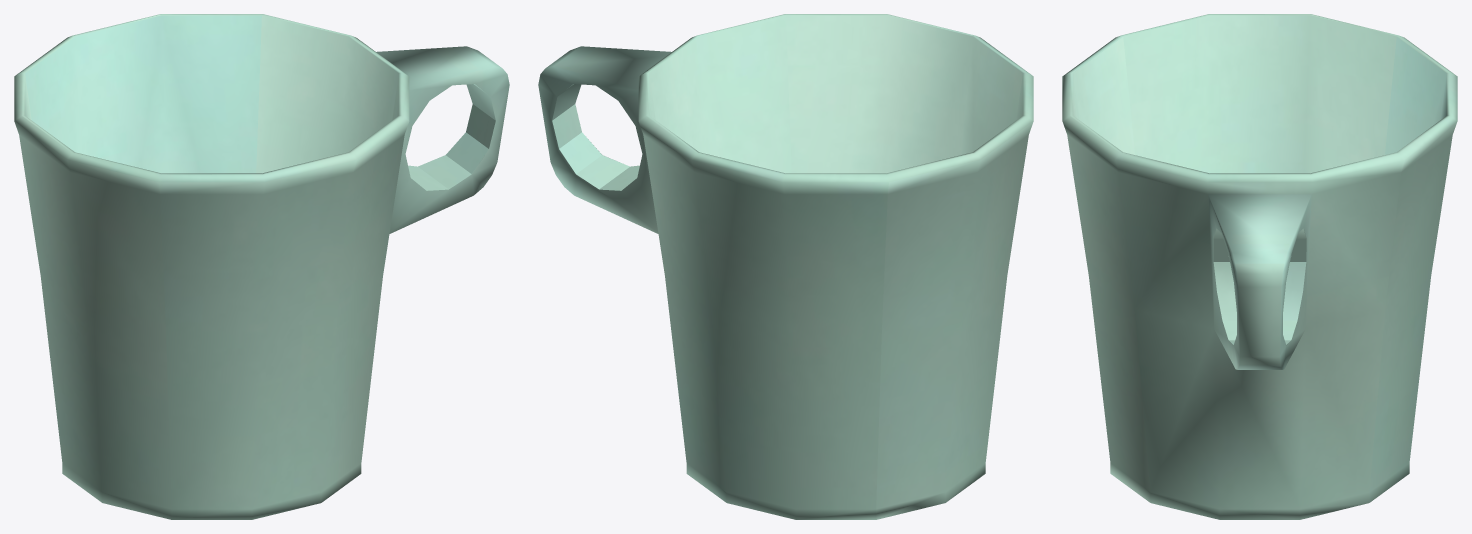
The model's file is CoffeeCup_Galley.obj.
3 renders of one model, left to right at view 1: azimuth 30°, elevation 25°; view 2: azimuth 150°, elevation 25°; view 3: azimuth 270°, elevation 25°, orthographic.
Parts seen in each view (by area): view 1: CoffeeCup_Galley.obj; view 2: CoffeeCup_Galley.obj; view 3: CoffeeCup_Galley.obj.
Boxes of the visible parts, <box> form: CoffeeCup_Galley.obj: <box>14,14,509,519</box>; CoffeeCup_Galley.obj: <box>538,14,1033,519</box>; CoffeeCup_Galley.obj: <box>1062,14,1457,519</box>.
Bounding box in the file's own units: 7 × 5.29 × 5.23.
